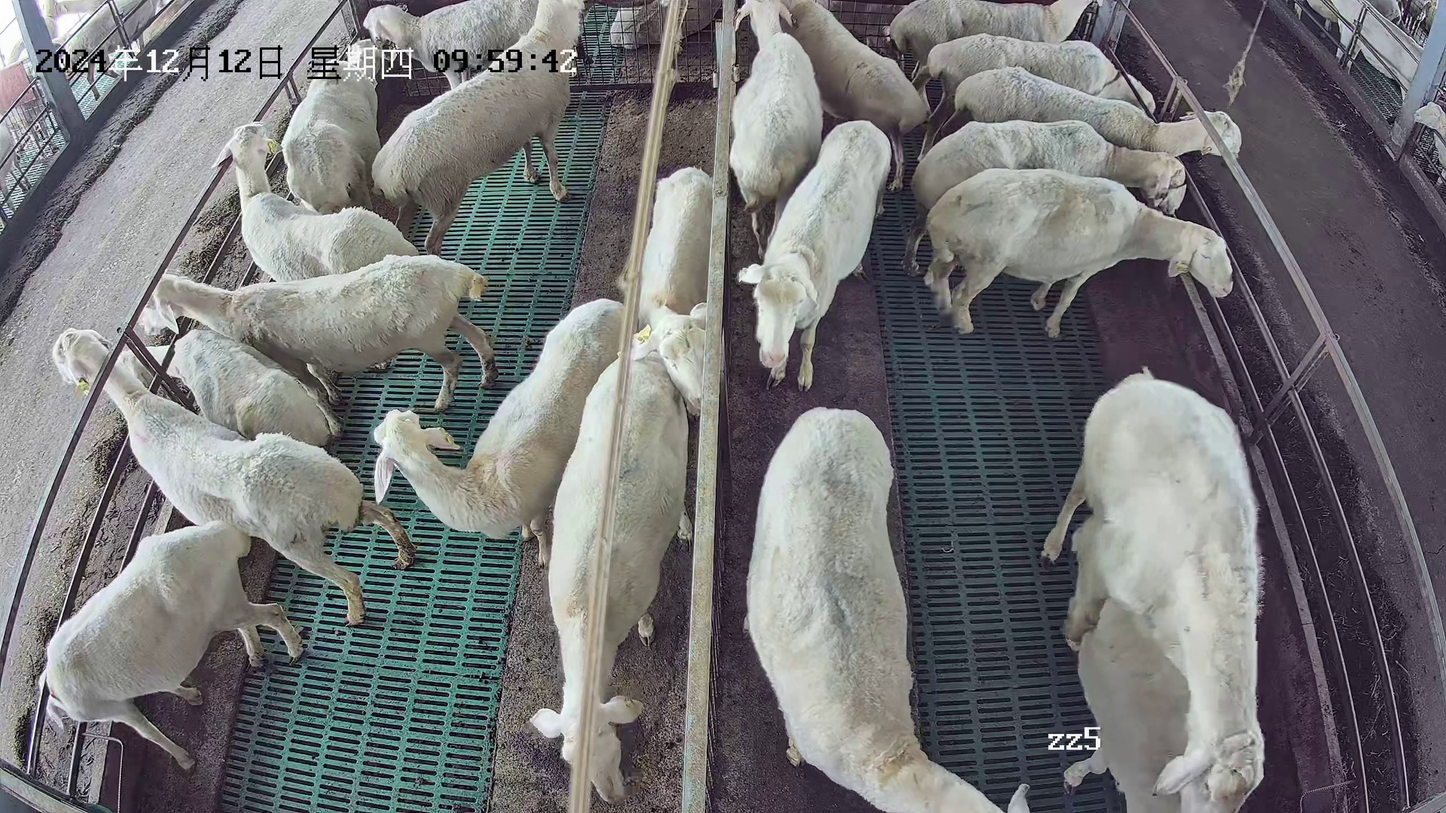Smounting: (1041, 365, 1269, 813)
mounted: (1060, 515, 1194, 813)
